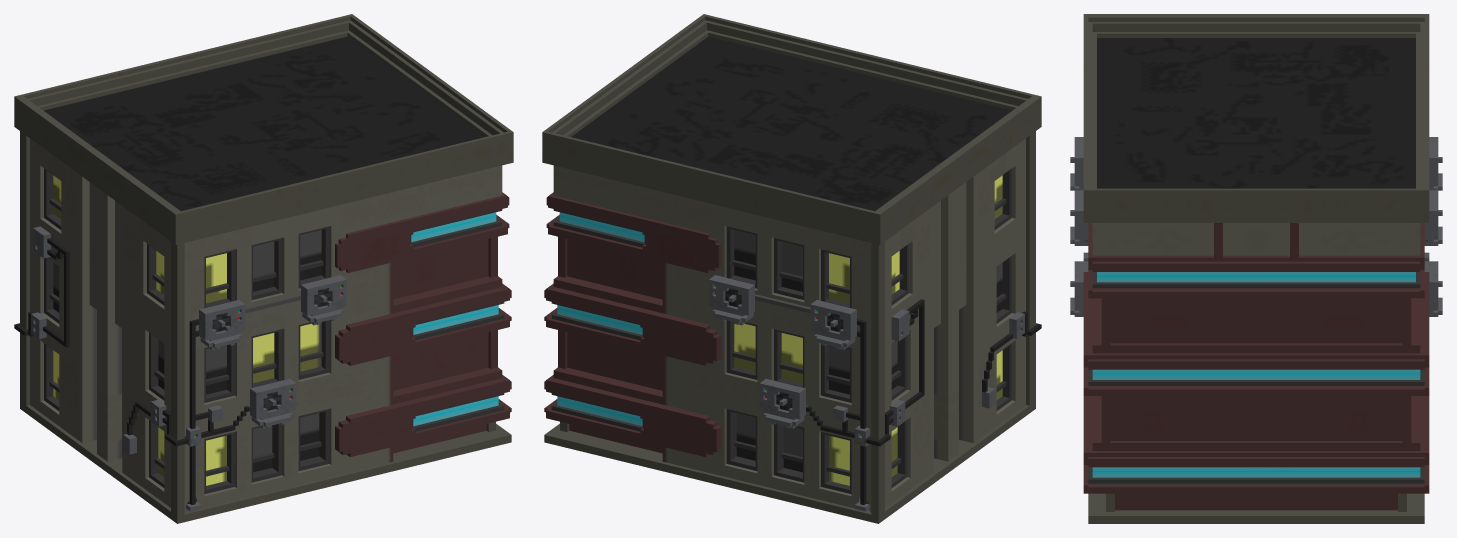
File: building_02.fbx
The picture shows the model from 3 angles, left to right: view 1: azimuth 30°, elevation 25°; view 2: azimuth 150°, elevation 25°; view 3: azimuth 270°, elevation 25°; orthographic projection. The views are drawn at different scales.
Parts seen in each view (by area): view 1: building_02; view 2: building_02; view 3: building_02.
Boxes of the visible parts, x1=… form: building_02: x1=14, y1=14, x2=513, y2=523; building_02: x1=542, y1=14, x2=1041, y2=523; building_02: x1=1070, y1=14, x2=1442, y2=523.
Size of the model in its own units: 93 by 82 by 83.
1 material, 1 textured.
